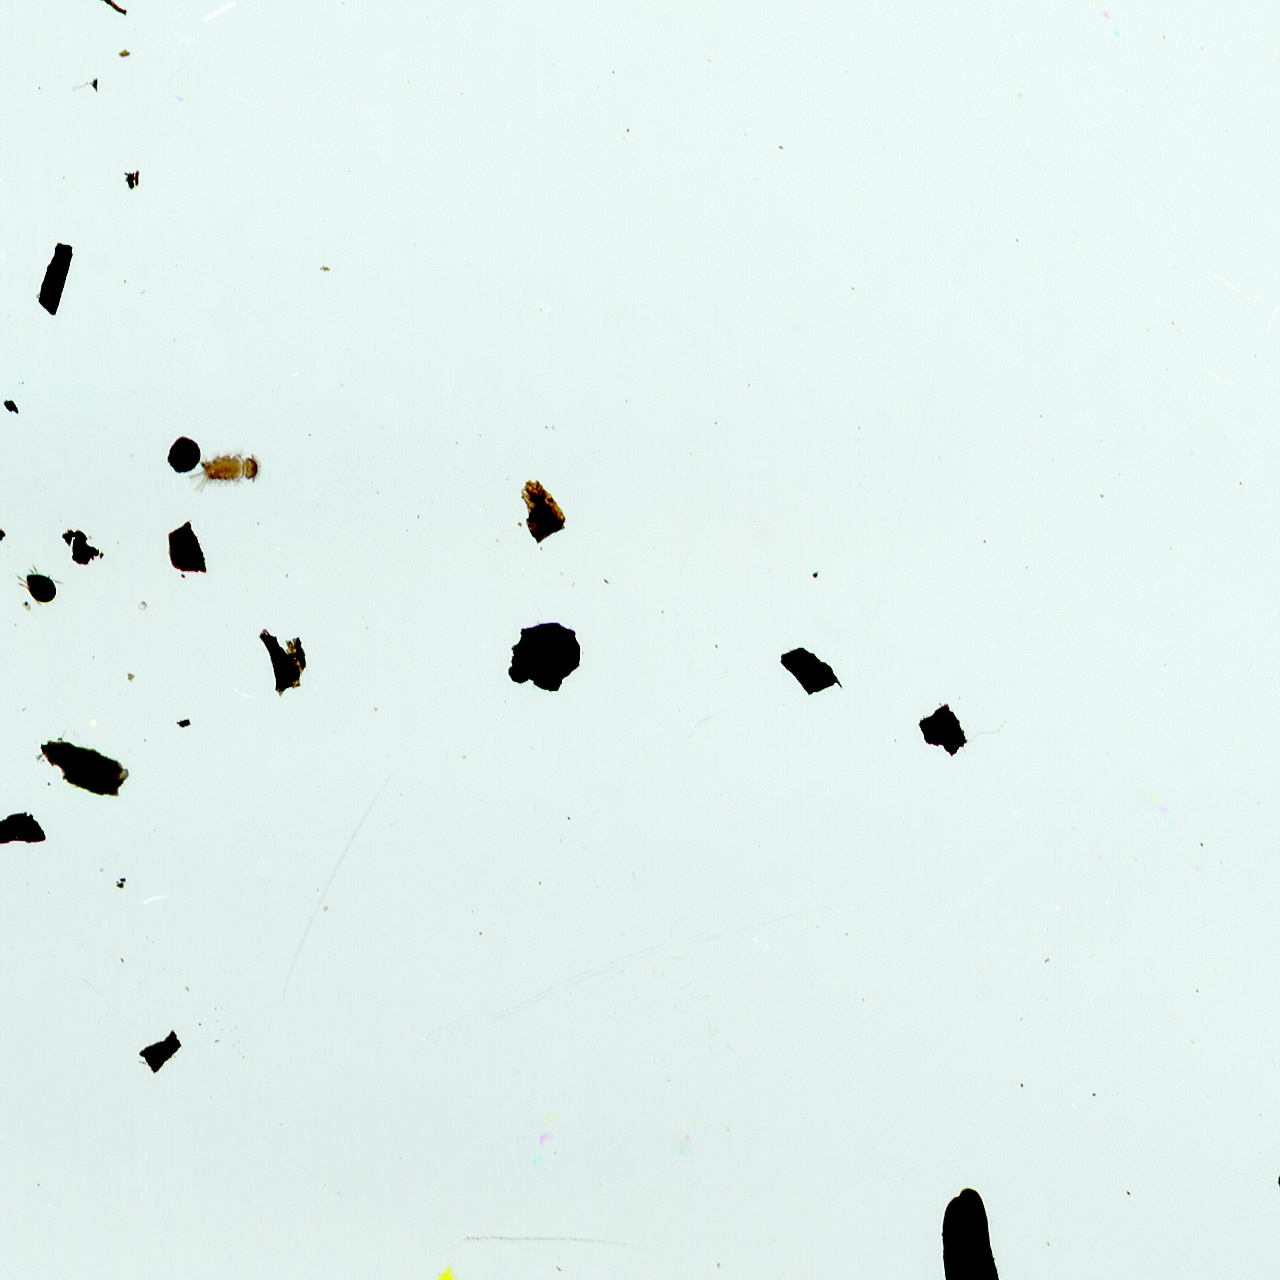arthropod: (188, 446, 264, 495), (11, 557, 69, 609)
